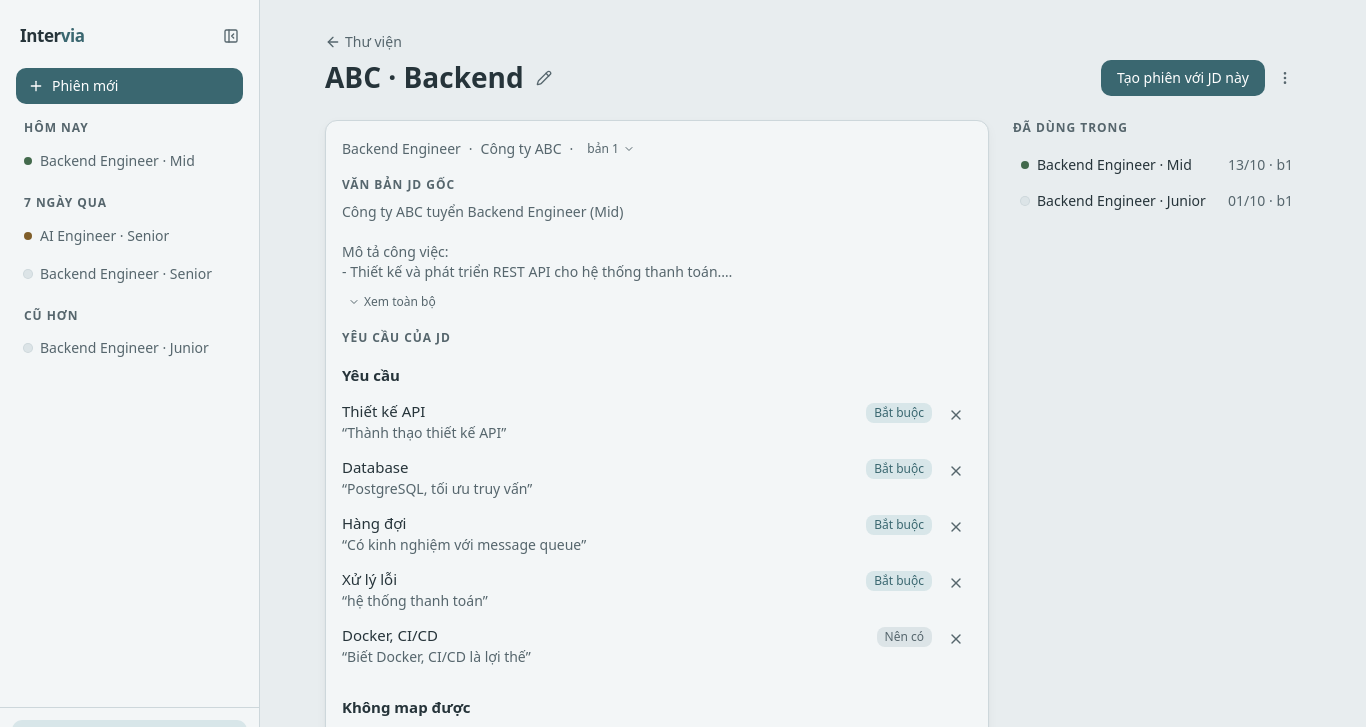
Test: JdDetailPage › collapses the JD text and expands it on demand
Click the button "Xem toàn bộ": point(392, 302) x1=342 y1=290 x2=442 y2=314
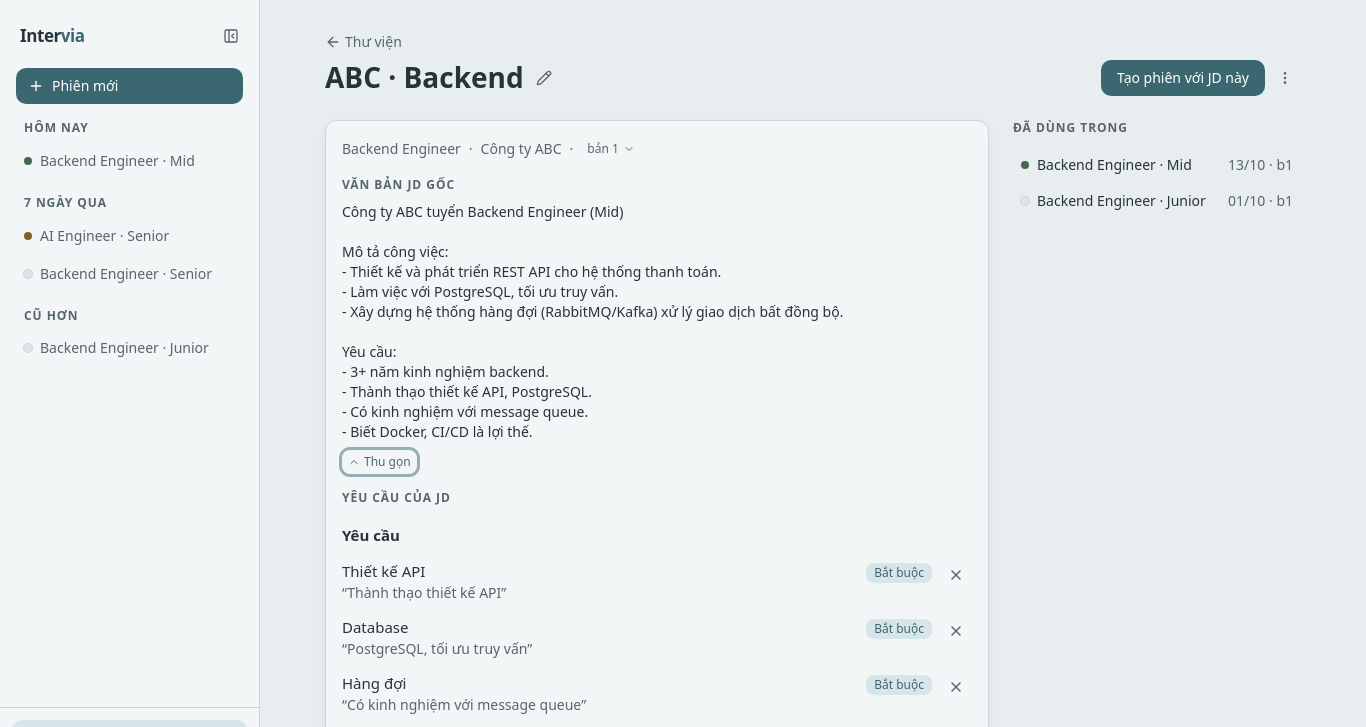
Now the button "Thu gọn" is expanded, box x1=342 y1=450 x2=417 y2=474
